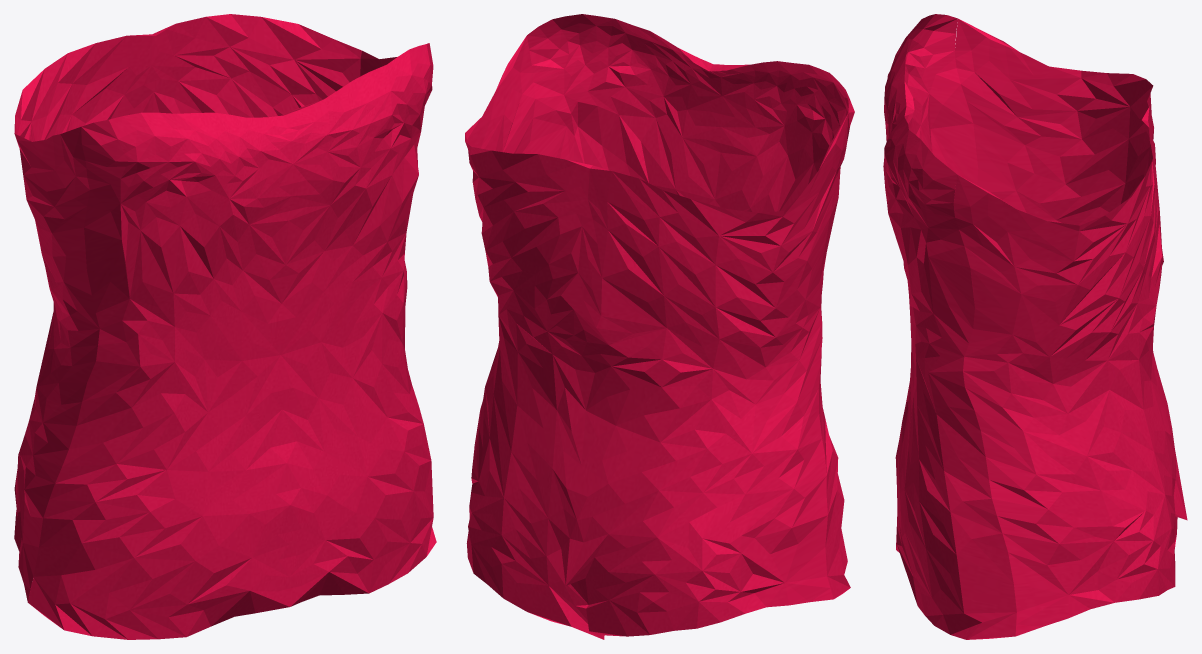
Rendered from mhw_elvs_vintage_swimwear1_50s_strapless.glb.
The picture shows the model from 3 angles, left to right: view 1: azimuth 30°, elevation 25°; view 2: azimuth 150°, elevation 25°; view 3: azimuth 270°, elevation 25°; orthographic projection. The views are drawn at different scales.
Parts seen in each view (by area): view 1: mhw_elvs_vintage_swimwear1_50s_strapless; view 2: mhw_elvs_vintage_swimwear1_50s_strapless; view 3: mhw_elvs_vintage_swimwear1_50s_strapless.
Boxes of the visible parts, x1,y1,x2,y2 form: mhw_elvs_vintage_swimwear1_50s_strapless: [14, 14, 436, 639]; mhw_elvs_vintage_swimwear1_50s_strapless: [465, 14, 854, 639]; mhw_elvs_vintage_swimwear1_50s_strapless: [883, 14, 1187, 639].
Bounding box in the file's own units: 0.4005 × 0.541 × 0.2971.
1 material, 1 textured.
